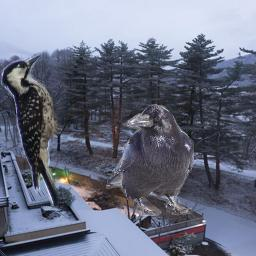Crow: (106, 103, 194, 216)
Woodpecker: (0, 52, 82, 206)
